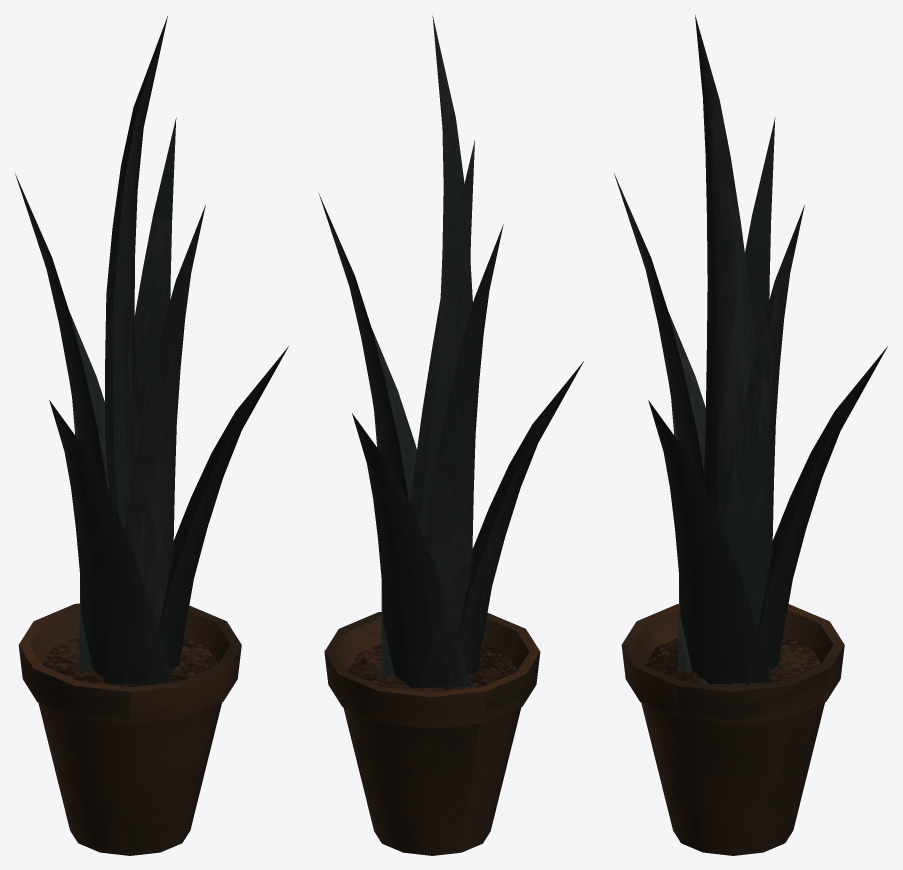
File: Dark_PlantPot.fbx
The picture shows the model from 3 angles, left to right: view 1: azimuth 30°, elevation 25°; view 2: azimuth 150°, elevation 25°; view 3: azimuth 270°, elevation 25°; orthographic projection. The views are drawn at different scales.
Visible parts, largest first — view 1: PlantPot; view 2: PlantPot; view 3: PlantPot.
Part boxes in pixels (box(x1,y1,x2,y2)): PlantPot: box(15, 16, 288, 855); PlantPot: box(318, 16, 583, 855); PlantPot: box(614, 15, 887, 855).
Size of the model in its own units: 39.83 by 133 by 40.22.
Materials: 3 (3 with a texture image).
